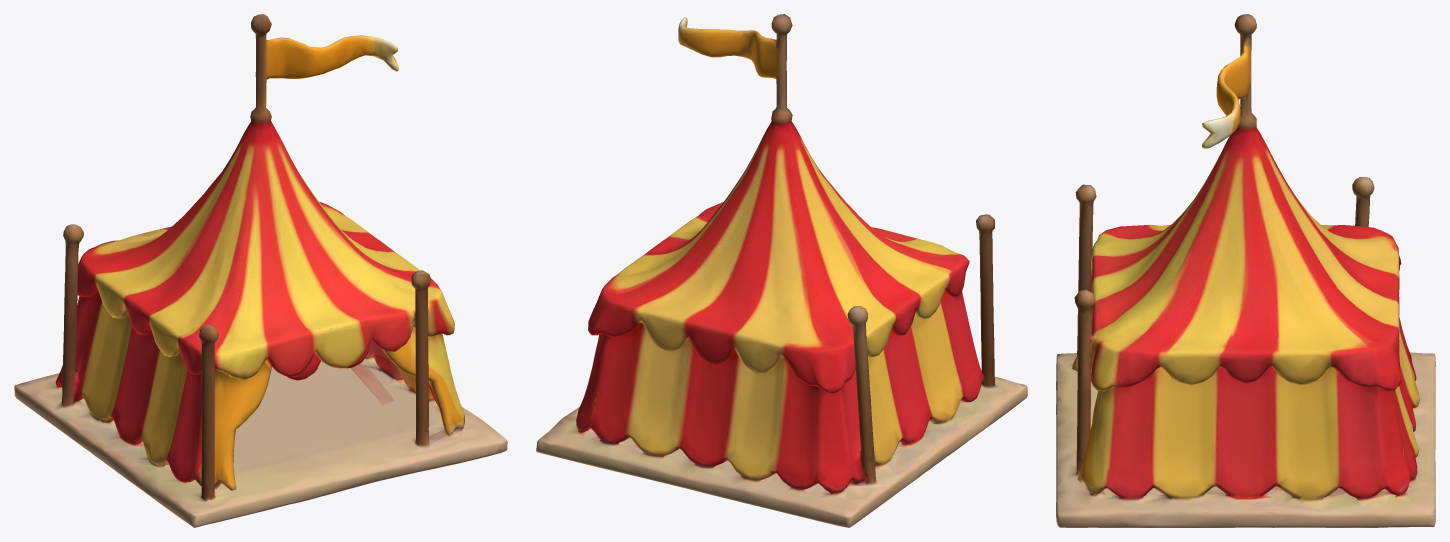
File: special1.glb
3 renders of one model, left to right at view 1: azimuth 30°, elevation 25°; view 2: azimuth 150°, elevation 25°; view 3: azimuth 270°, elevation 25°, orthographic. The views are drawn at different scales.
Parts seen in each view (by area): view 1: Mesh_0; view 2: Mesh_0; view 3: Mesh_0.
Boxes of the visible parts, bbox=[...] form: Mesh_0: bbox=[14, 14, 507, 527]; Mesh_0: bbox=[536, 14, 1027, 527]; Mesh_0: bbox=[1056, 14, 1435, 527].
Size of the model in its own units: 1.53 by 1.91 by 1.51.
1 material, 1 textured.
